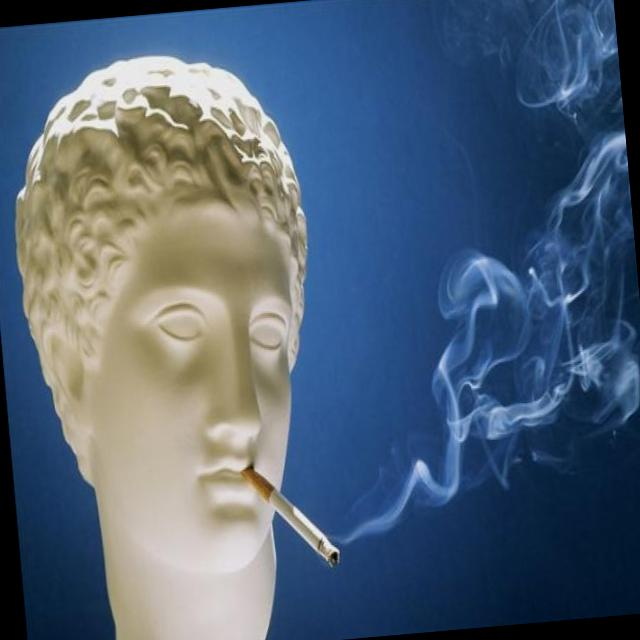cigarette: (234, 442, 343, 595)
